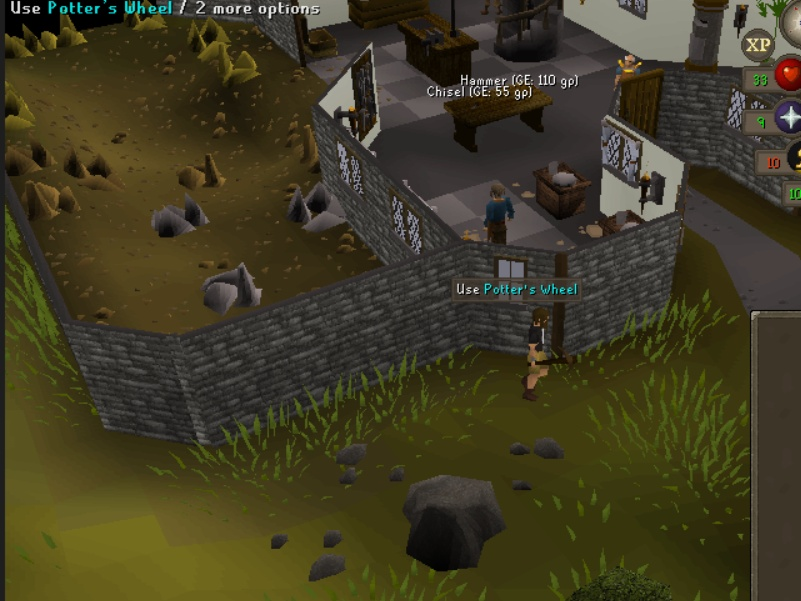clay: (19, 176, 82, 223), (65, 142, 122, 193), (1, 132, 57, 183), (173, 152, 232, 193)
gold: (213, 42, 264, 84), (184, 12, 235, 54), (40, 10, 91, 52), (120, 1, 171, 42), (1, 90, 38, 135), (1, 22, 41, 61)
silver: (287, 179, 351, 237), (202, 258, 266, 316), (148, 185, 212, 243)
